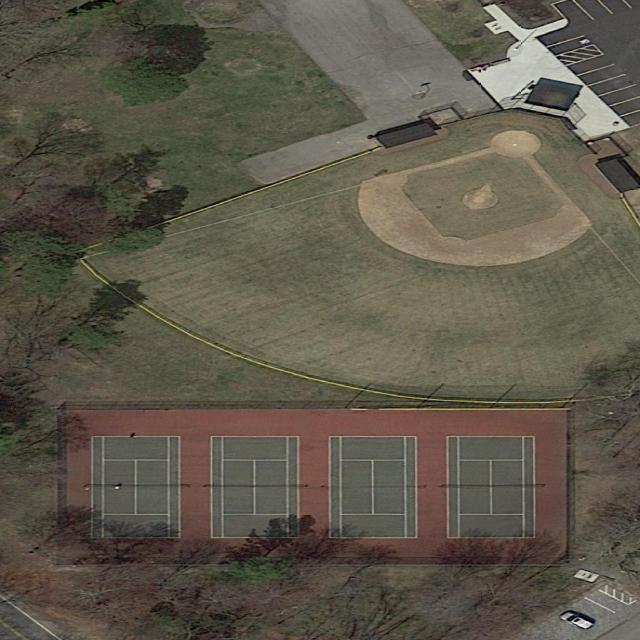small-vehicle: (555, 610, 599, 632)
